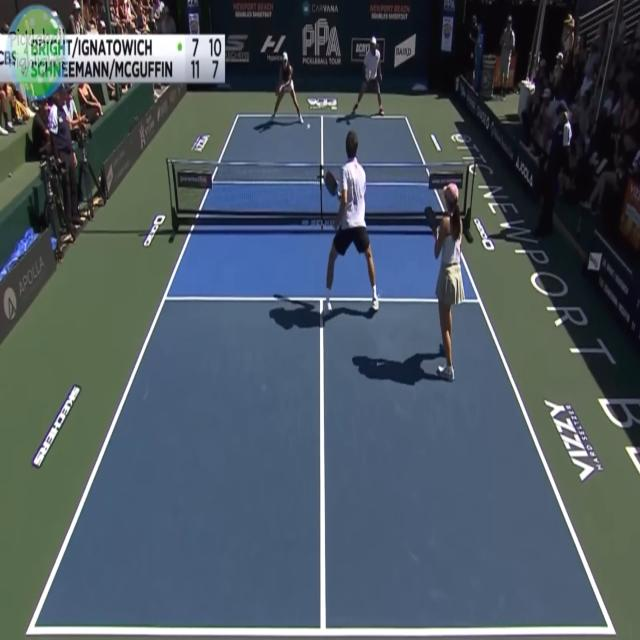ball: (305, 118, 313, 134)
